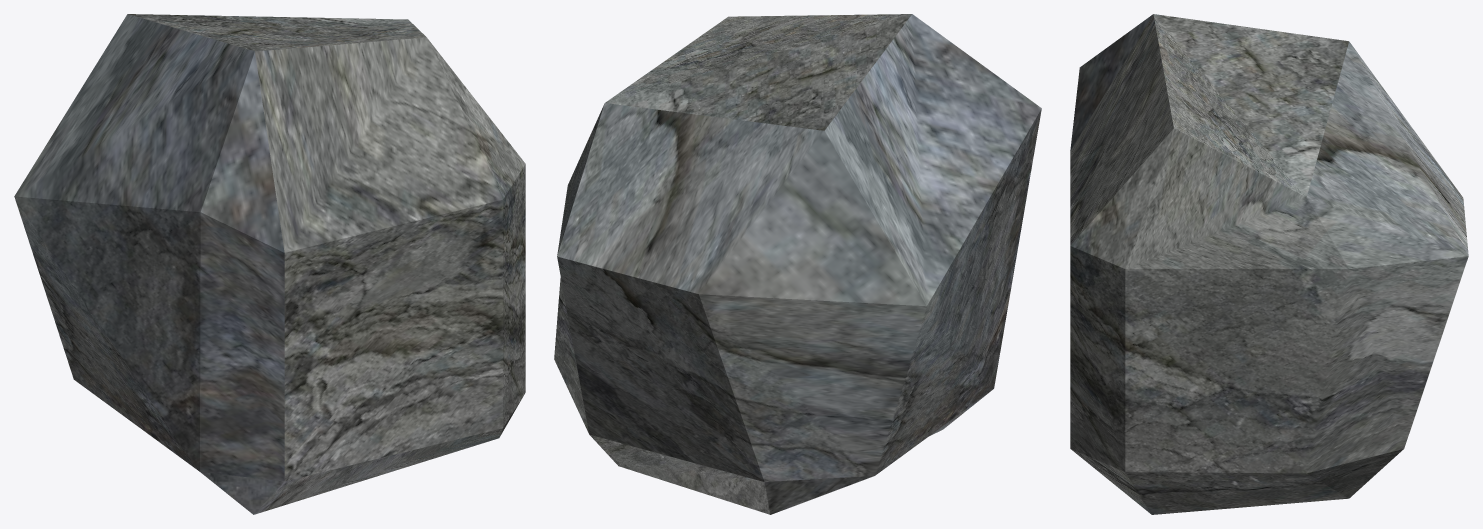
Rendered from rock.fbx.
The picture shows the model from 3 angles, left to right: view 1: azimuth 30°, elevation 25°; view 2: azimuth 150°, elevation 25°; view 3: azimuth 270°, elevation 25°; orthographic projection. The views are drawn at different scales.
Parts seen in each view (by area): view 1: Cube; view 2: Cube; view 3: Cube.
Part boxes in pixels (left/top/right/bottom): Cube: left=14, top=14, right=525, bottom=514; Cube: left=554, top=14, right=1041, bottom=514; Cube: left=1070, top=14, right=1468, bottom=514.
Bounding box in the file's own units: 259 × 263 × 239.
1 material, 1 textured.
